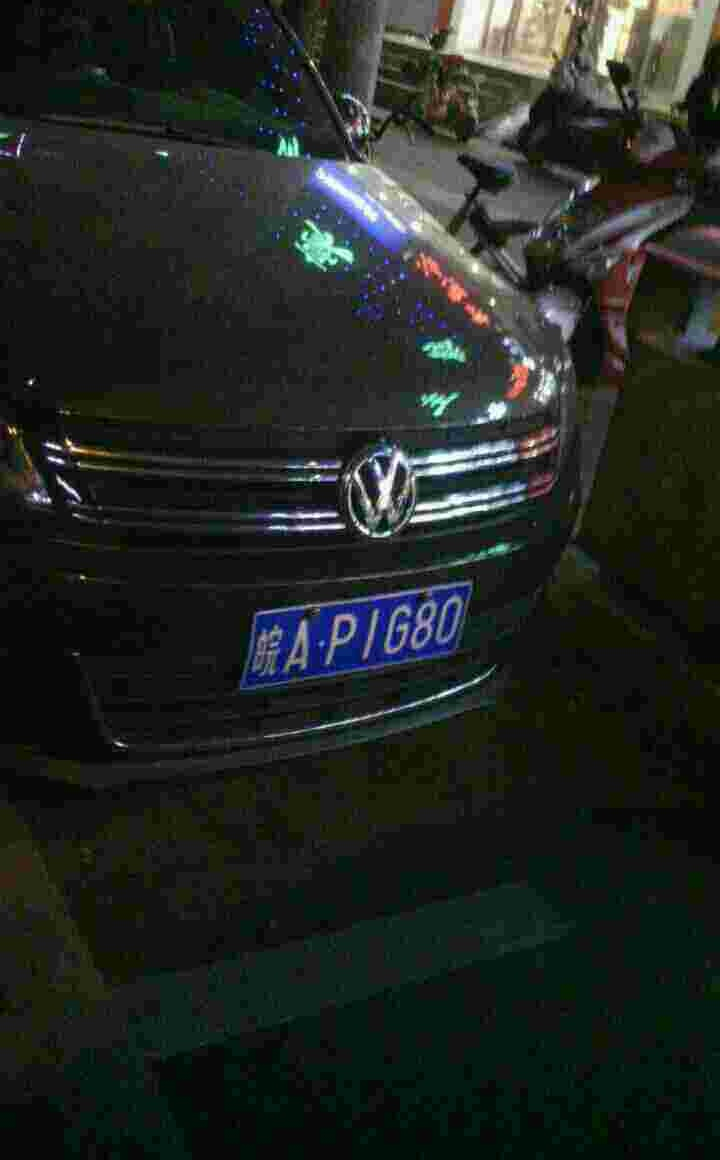license_plate: (243, 585, 471, 697)
